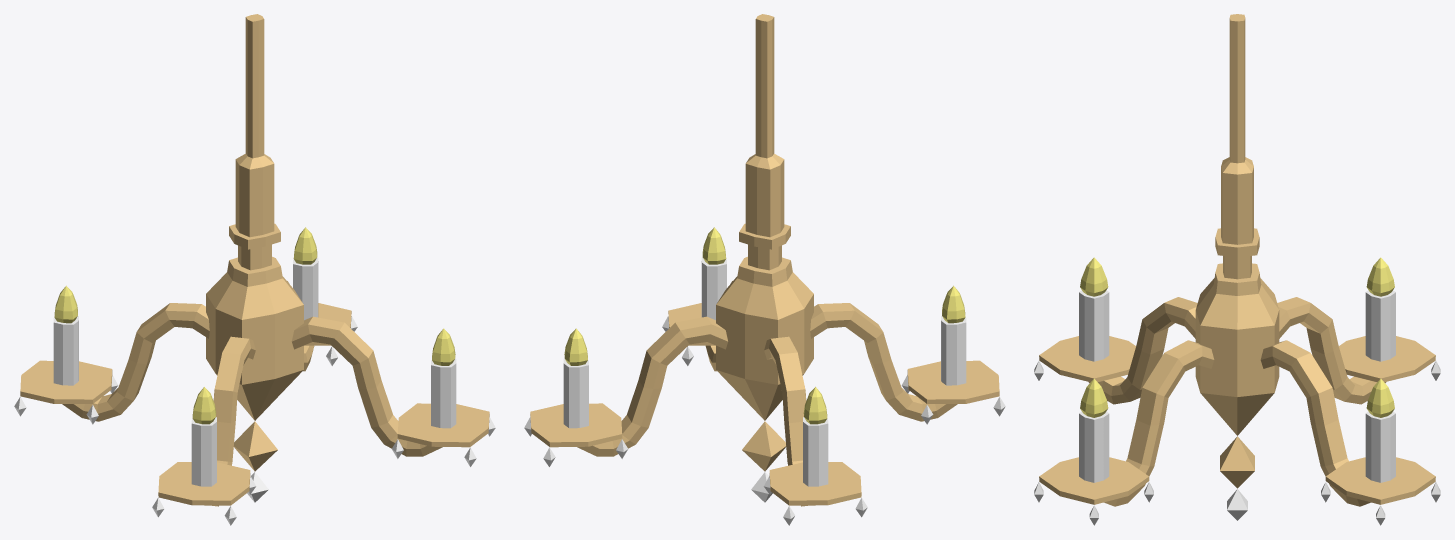
File: chandelier.glb
The picture shows the model from 3 angles, left to right: view 1: azimuth 30°, elevation 25°; view 2: azimuth 150°, elevation 25°; view 3: azimuth 270°, elevation 25°; orthographic projection. The views are drawn at different scales.
Parts seen in each view (by area): view 1: Chandelier_01_Cube.035; view 2: Chandelier_01_Cube.035; view 3: Chandelier_01_Cube.035.
Boxes of the visible parts, left/top/right/bottom form: Chandelier_01_Cube.035: left=14, top=14, right=495, bottom=525; Chandelier_01_Cube.035: left=524, top=14, right=1005, bottom=525; Chandelier_01_Cube.035: left=1034, top=14, right=1440, bottom=525.
Bounding box in the file's own units: 7.3 × 9.97 × 7.3.
